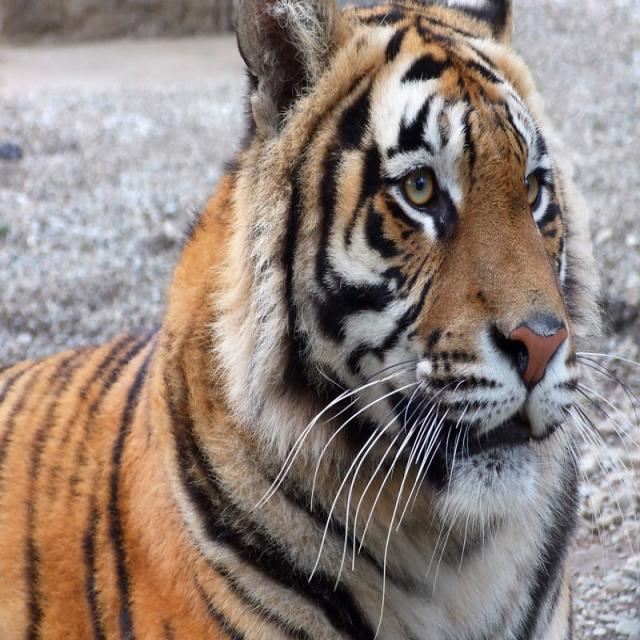Tiger: (0, 0, 614, 635)
